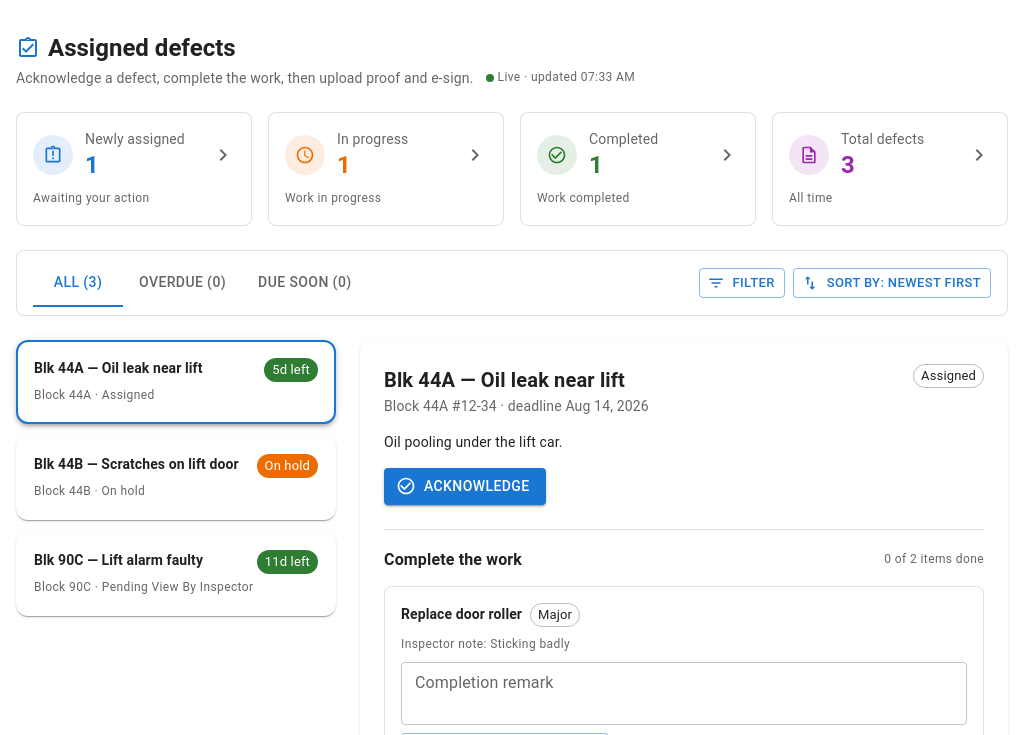
Test: ContractorInboxPage › acknowledge › a failed acknowledge shows the server reason
Click the button "Acknowledge".
click(465, 486)  # box [384, 468, 546, 504]
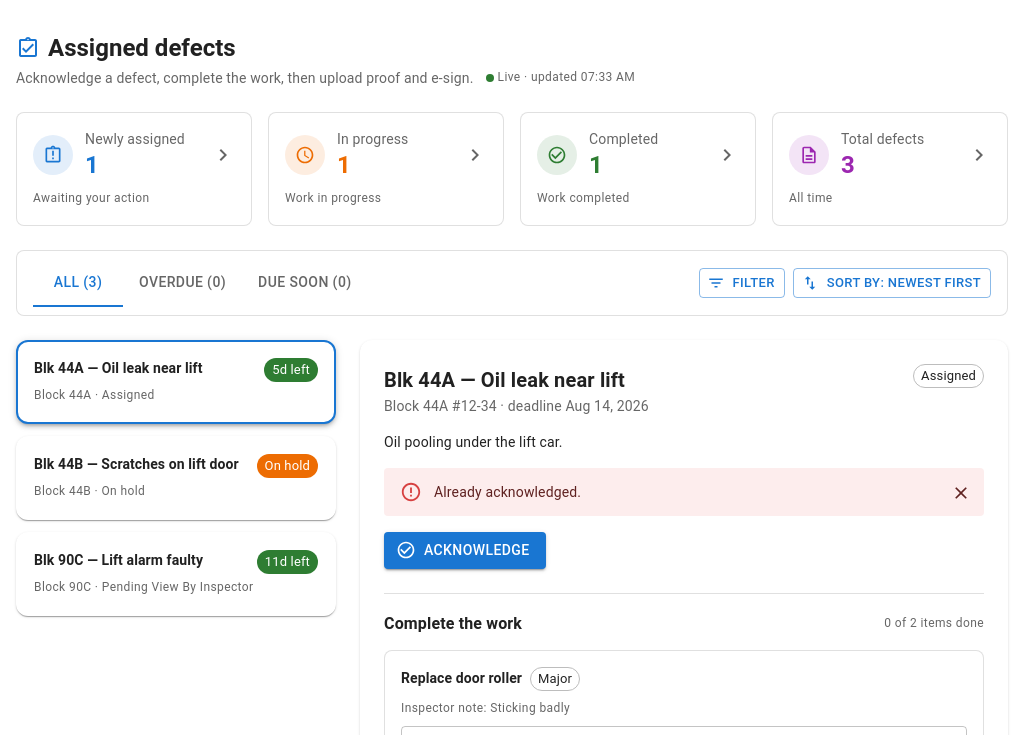
Result: the text "Already acknowledged." is shown at [434, 484, 581, 500]
